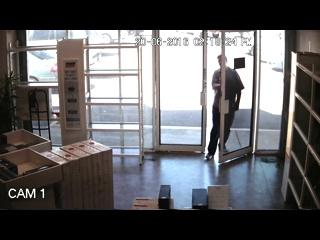Normal: (204, 54, 245, 162)
